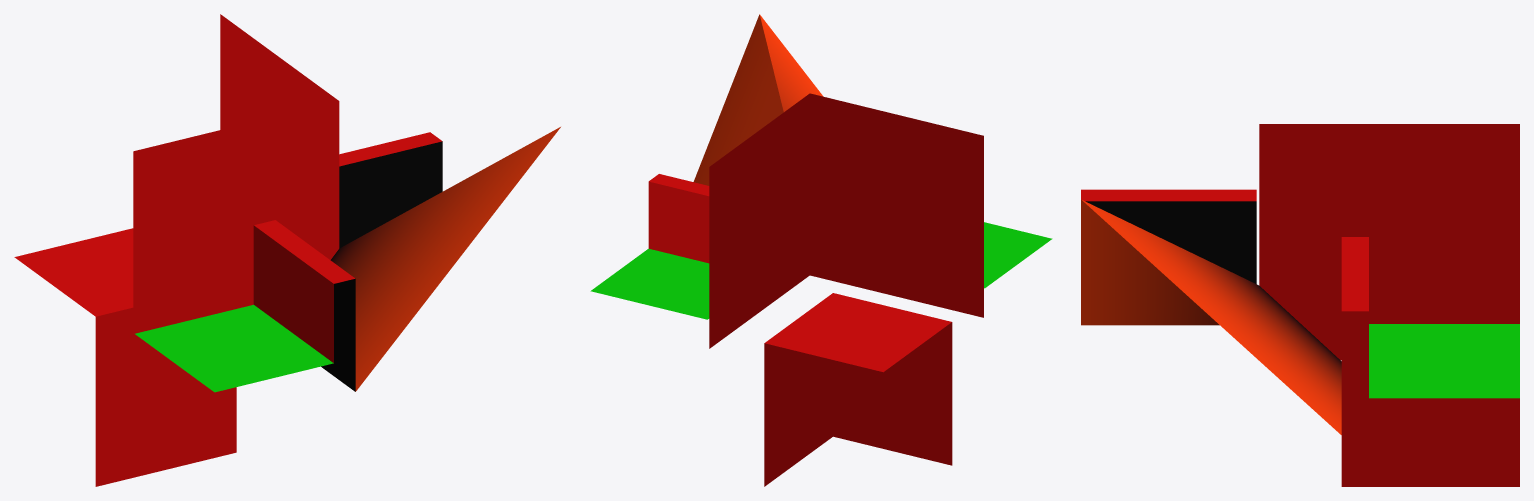
3 views of the same model, side by side, from view 1: azimuth 30°, elevation 25°; view 2: azimuth 150°, elevation 25°; view 3: azimuth 270°, elevation 25° (orthographic). The views are drawn at different scales.
Visible parts, largest first — view 1: None_W_S_E_E_E_W_A_E_None; view 2: None_W_S_E_E_E_W_A_E_None; view 3: None_W_S_E_E_E_W_A_E_None.
Part boxes in pixels (x1,y1,x2,y2): None_W_S_E_E_E_W_A_E_None: [14, 14, 560, 486]; None_W_S_E_E_E_W_A_E_None: [590, 14, 1052, 486]; None_W_S_E_E_E_W_A_E_None: [1081, 124, 1519, 486].
Size of the model in its own units: 100 by 100 by 100.
